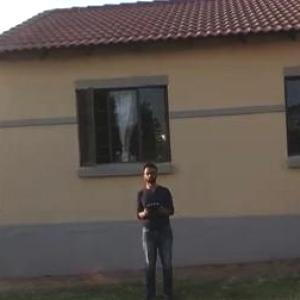follow: (131, 155, 181, 299)
